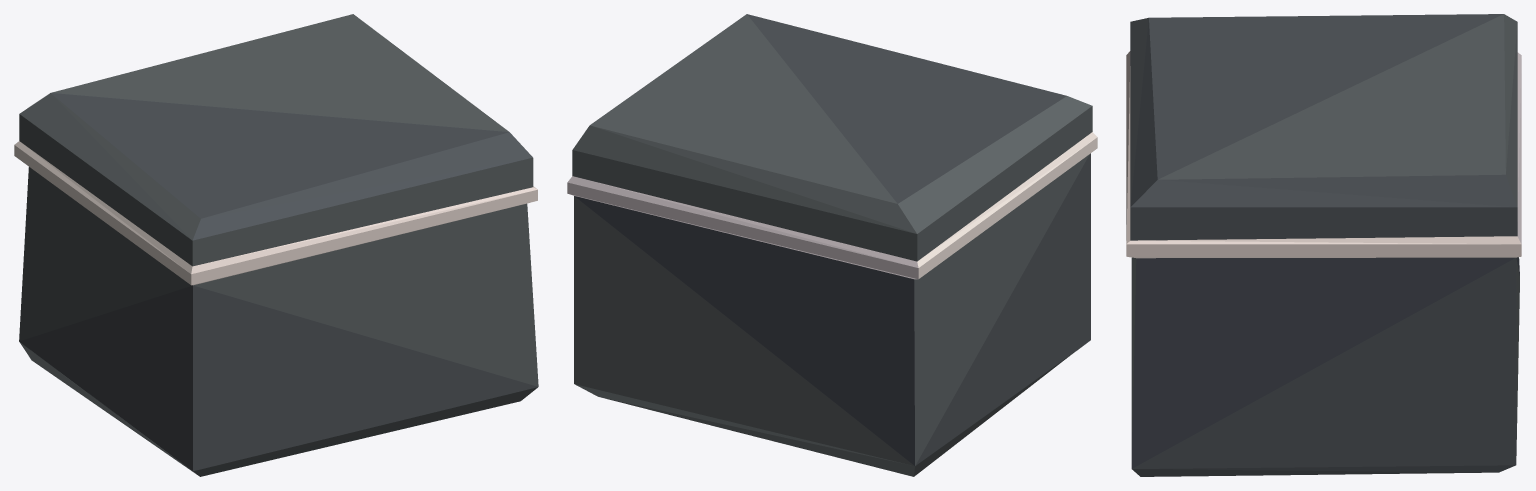
Rendered from tin_box.fbx.
The picture shows the model from 3 angles, left to right: view 1: azimuth 30°, elevation 25°; view 2: azimuth 150°, elevation 25°; view 3: azimuth 270°, elevation 25°; orthographic projection. The views are drawn at different scales.
Parts seen in each view (by area): view 1: tin_box; view 2: tin_box; view 3: tin_box.
Part boxes in pixels (box(x1,y1,x2,y2)): tin_box: box(14, 14, 538, 476); tin_box: box(567, 14, 1097, 476); tin_box: box(1126, 14, 1521, 476).
Bounding box in the file's own units: 16.37 × 12.03 × 14.33.
